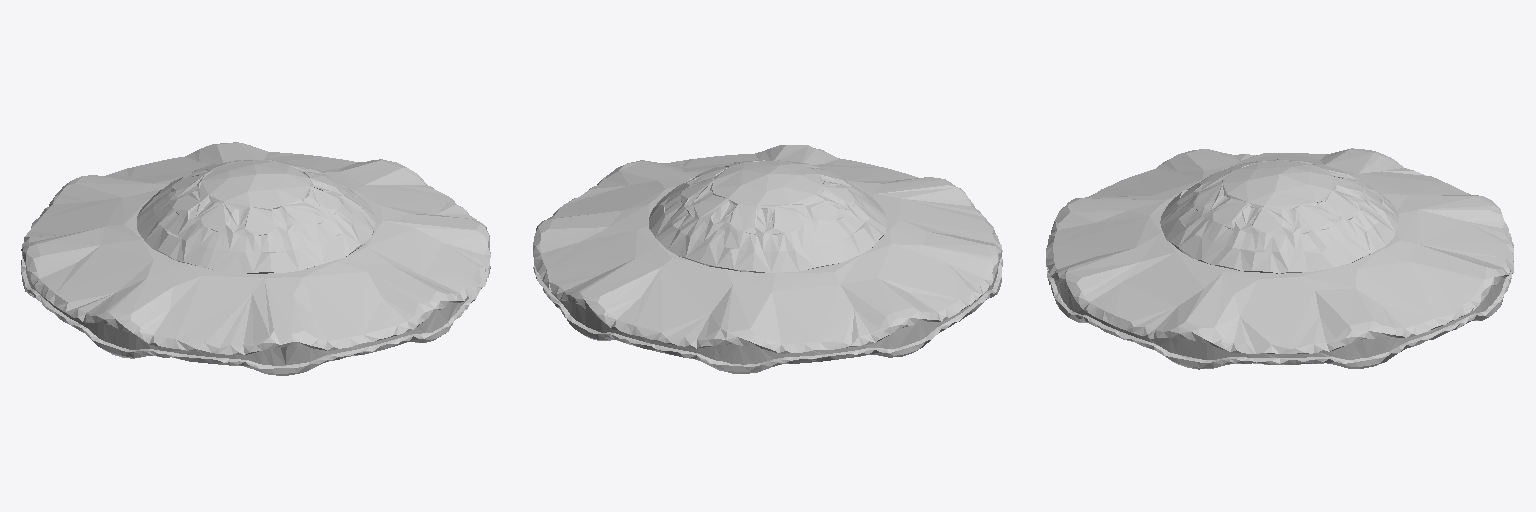
File: frame_020.obj
The picture shows the model from 3 angles: view 1: azimuth 30°, elevation 25°; view 2: azimuth 150°, elevation 25°; view 3: azimuth 270°, elevation 25°; orthographic projection.
Parts seen in each view (by area): view 1: 13884_UFO_Saucer_v1_l2; view 2: 13884_UFO_Saucer_v1_l2; view 3: 13884_UFO_Saucer_v1_l2.
Part boxes in pixels (left/top/right/bottom): 13884_UFO_Saucer_v1_l2: left=21, top=142, right=490, bottom=375; 13884_UFO_Saucer_v1_l2: left=533, top=145, right=1002, bottom=373; 13884_UFO_Saucer_v1_l2: left=1046, top=148, right=1513, bottom=369.
Size of the model in its own units: 12.69 by 4.88 by 12.7.